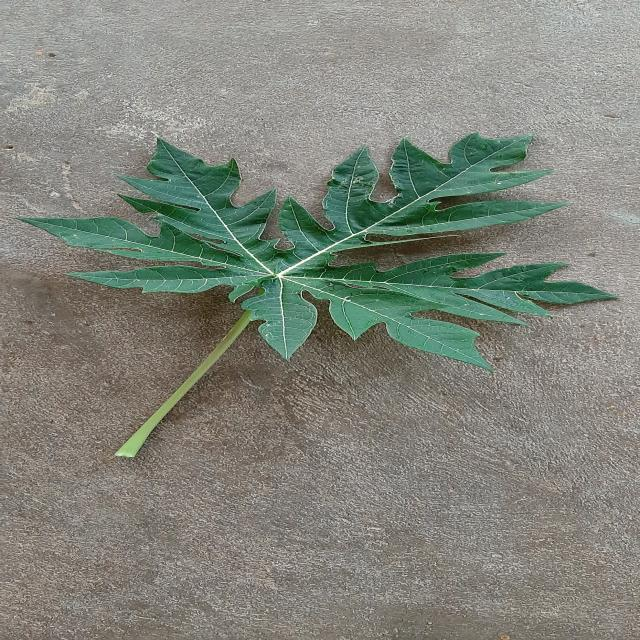papaya: (22, 134, 615, 456)
